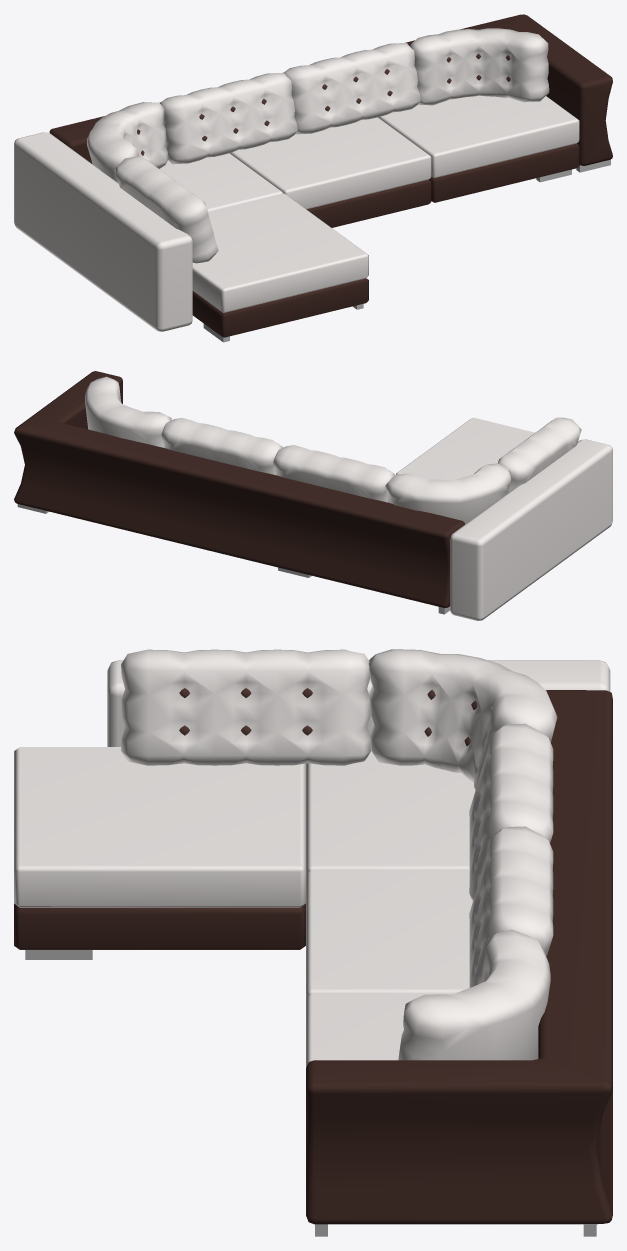
File: sofa_012.fbx
The picture shows the model from 3 angles, top to bottom: view 1: azimuth 30°, elevation 25°; view 2: azimuth 150°, elevation 25°; view 3: azimuth 270°, elevation 25°; orthographic projection. The views are drawn at different scales.
Visible parts, largest first — view 1: sofa_012; view 2: sofa_012; view 3: sofa_012.
Part boxes in pixels (x1,y1,x2,y2): sofa_012: [14, 14, 612, 342]; sofa_012: [14, 371, 612, 620]; sofa_012: [14, 649, 612, 1236].
Bounding box in the file's own units: 520 × 307 × 112.
